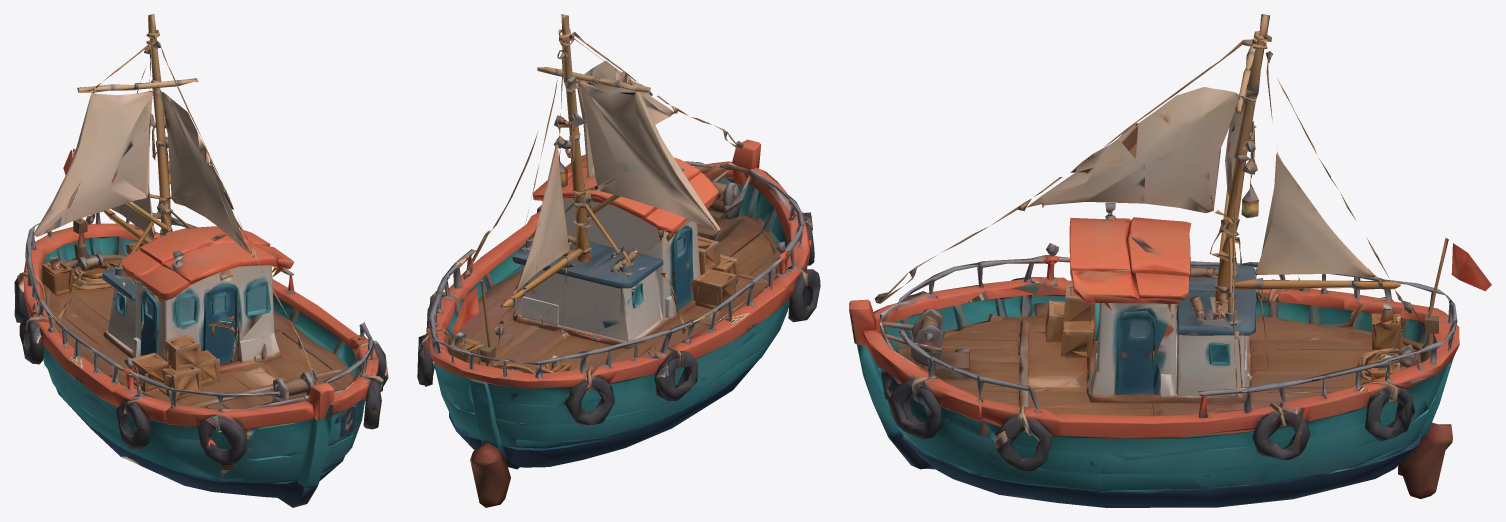
Rendered from fishing-boat-mobile.glb.
The picture shows the model from 3 angles, left to right: view 1: azimuth 30°, elevation 25°; view 2: azimuth 150°, elevation 25°; view 3: azimuth 270°, elevation 25°; orthographic projection. The views are drawn at different scales.
Visible parts, largest first — view 1: model; view 2: model; view 3: model.
Part boxes in pixels (x1,y1,x2,y2): model: (14,14,388,507); model: (417,14,820,507); model: (849,14,1491,507).
Bounding box in the file's own units: 1.02 × 1.54 × 1.87.
1 material, 1 textured.
